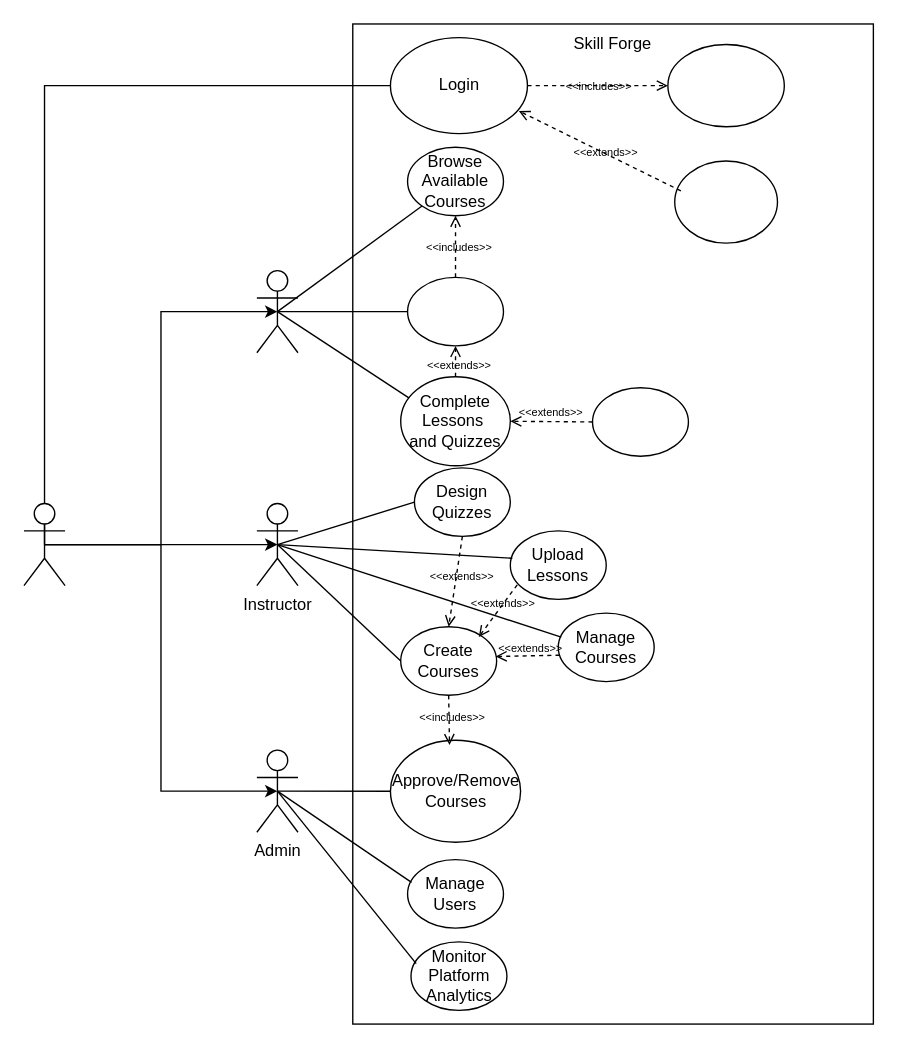
This 897x1048 diagram has some shape labels left out. The centre of each missing label's shape, as x and y in pixels:
"Earn Certificates" belongs at point (639, 421).
"Enroll In Course" belongs at point (454, 311).
"Error in Login" belongs at point (725, 201).
"Student" belongs at point (277, 311).
"User" belongs at point (44, 544).
"Verify Login" belongs at point (725, 85).
